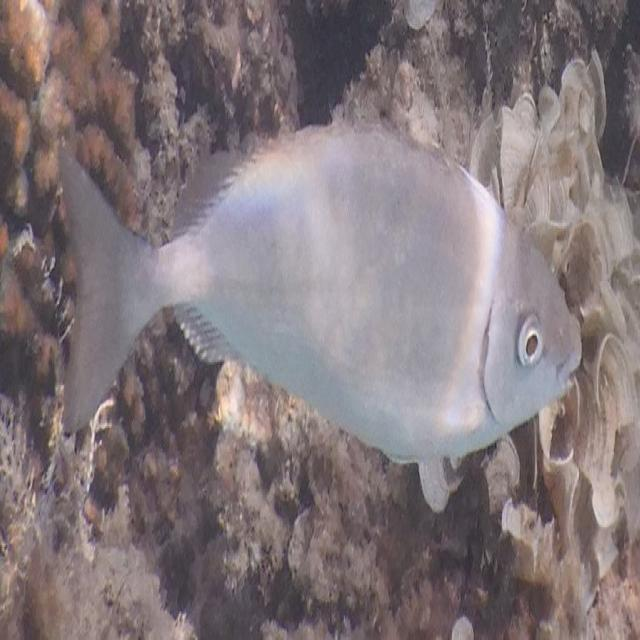Sokar Baligi: (40, 82, 591, 509)
